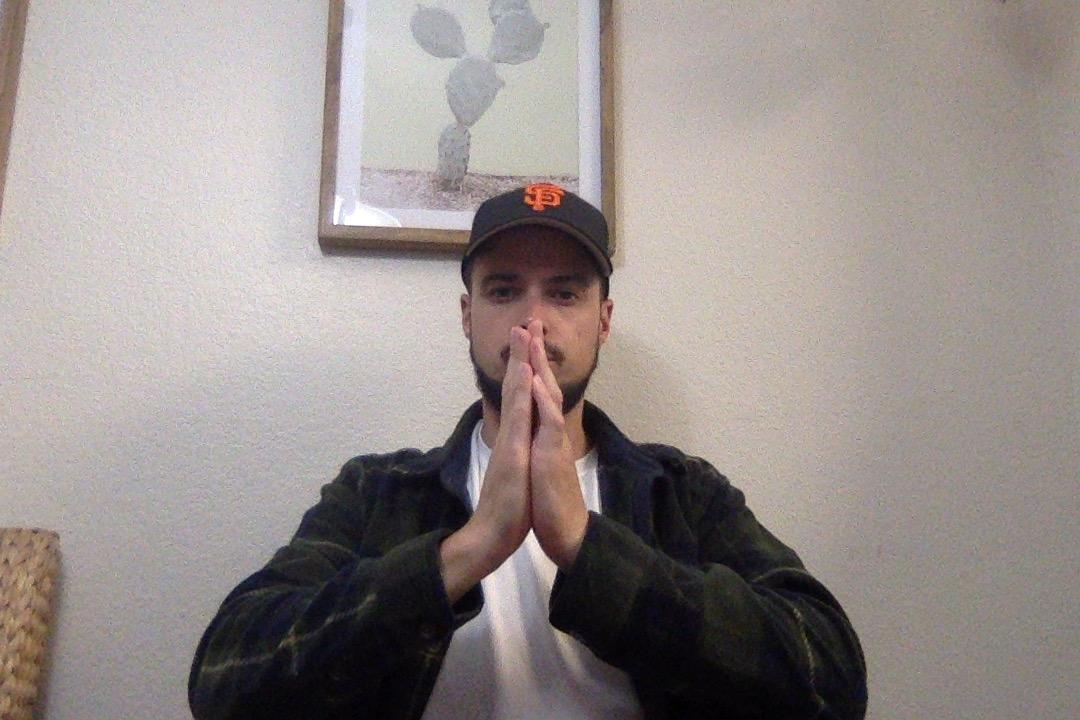Praying-Hands: (454, 323, 584, 586)
